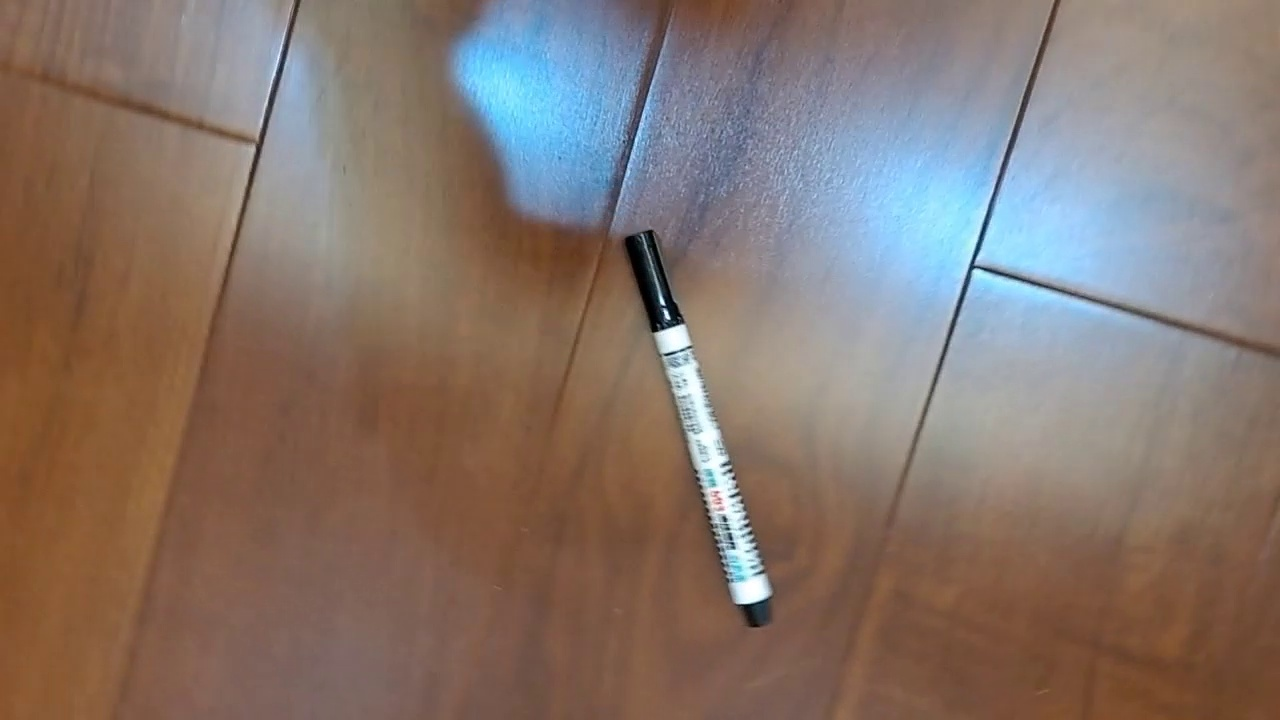pen: (622, 228, 777, 629)
